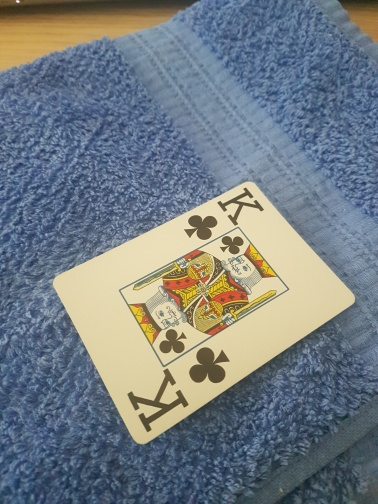king: (53, 181, 354, 444)
